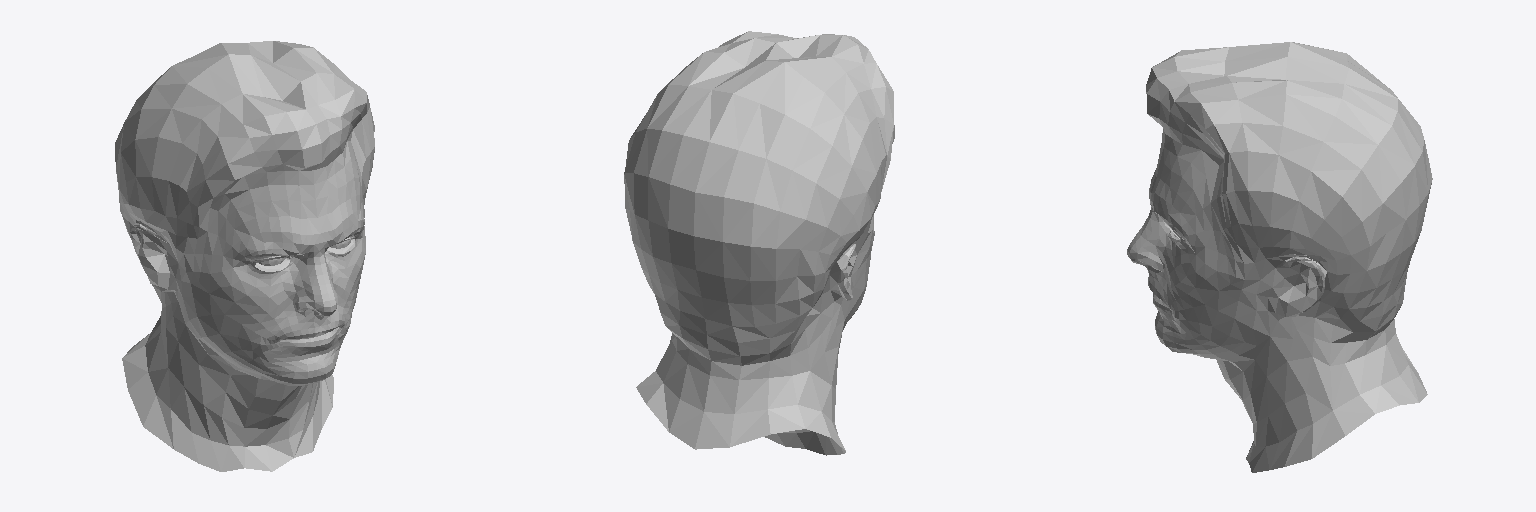
File: jajebie.obj
3 views of the same model, side by side, from view 1: azimuth 30°, elevation 25°; view 2: azimuth 150°, elevation 25°; view 3: azimuth 270°, elevation 25° (orthographic).
Visible parts, largest first — view 1: theillusiveman_illHead; view 2: theillusiveman_illHead; view 3: theillusiveman_illHead.
Part boxes in pixels (x1,y1,x2,y2): theillusiveman_illHead: (115,41,374,471); theillusiveman_illHead: (624,31,894,455); theillusiveman_illHead: (1127,42,1432,472).
Bounding box in the file's own units: 7.3 × 12.92 × 8.8.